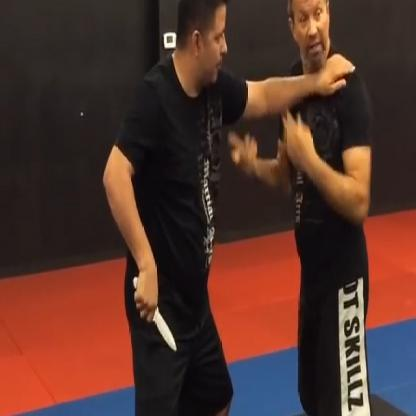knife: (126, 262, 180, 360)
